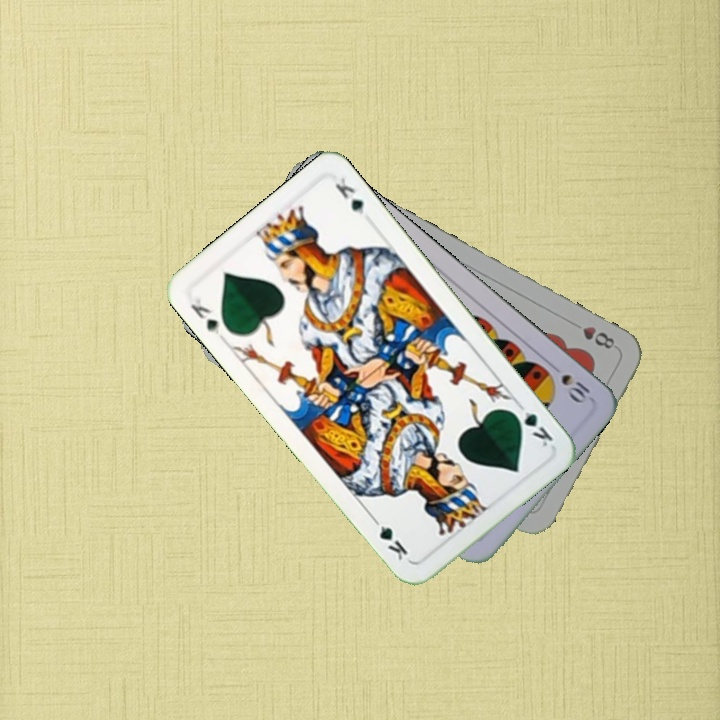GK: (507, 399, 556, 450), (186, 293, 222, 338)
H8: (578, 322, 620, 352)
S10: (557, 369, 594, 407)
